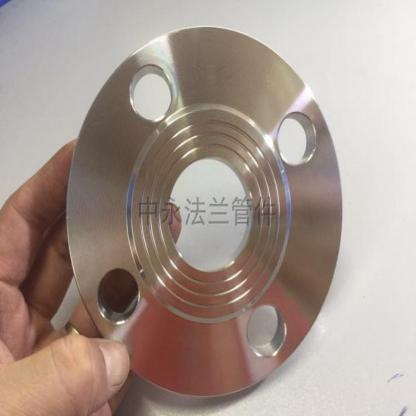FOD: (63, 15, 346, 408)
